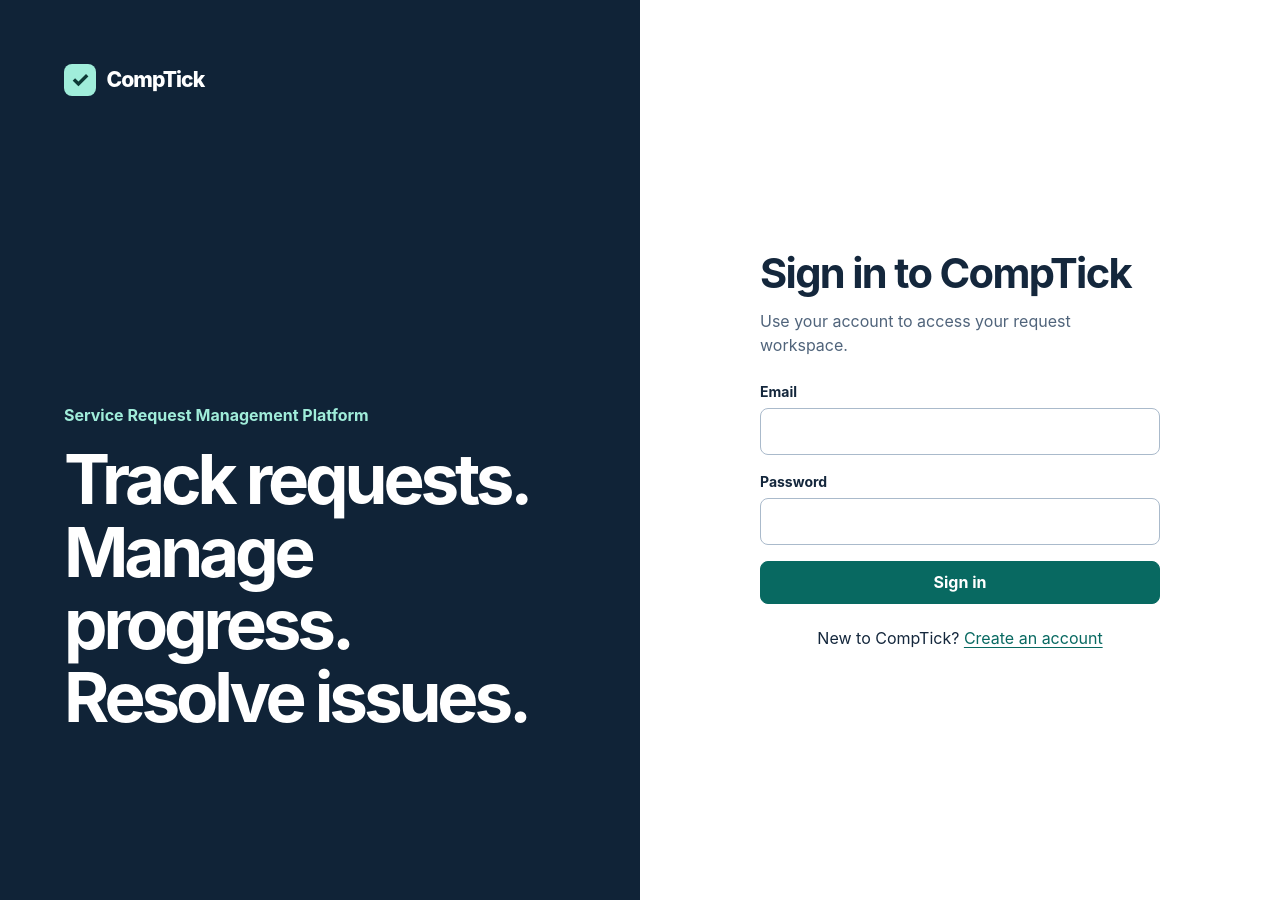
Test case: shows incorrect credentials on the login screen
The width and height of the screenshot is (1280, 900).
Type "member@example.com" into the field labelled "Email" at (960, 432), box [760,408,1160,455]
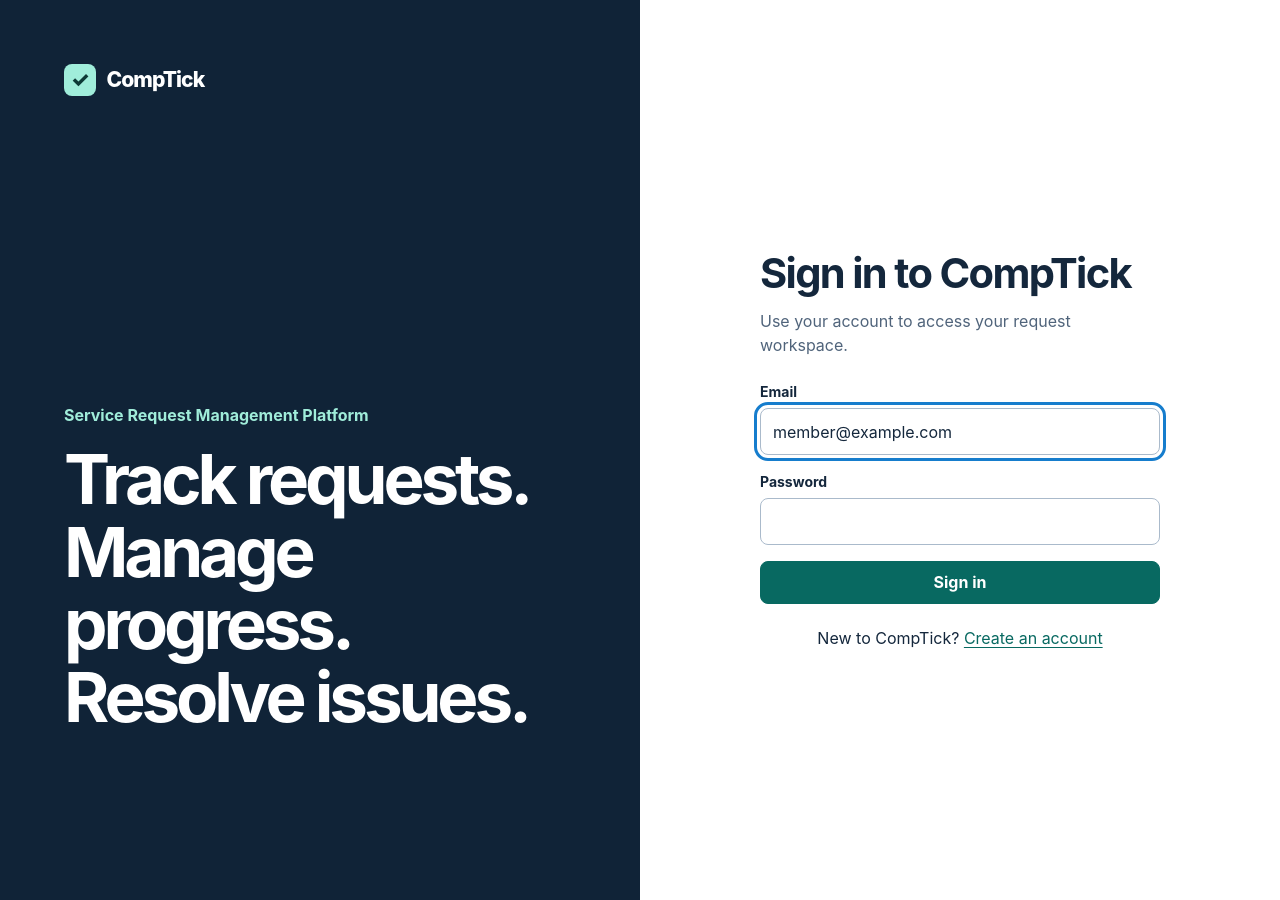
Type "testing-password" into the password field labelled "Password" at (960, 522), box [760,498,1160,545]
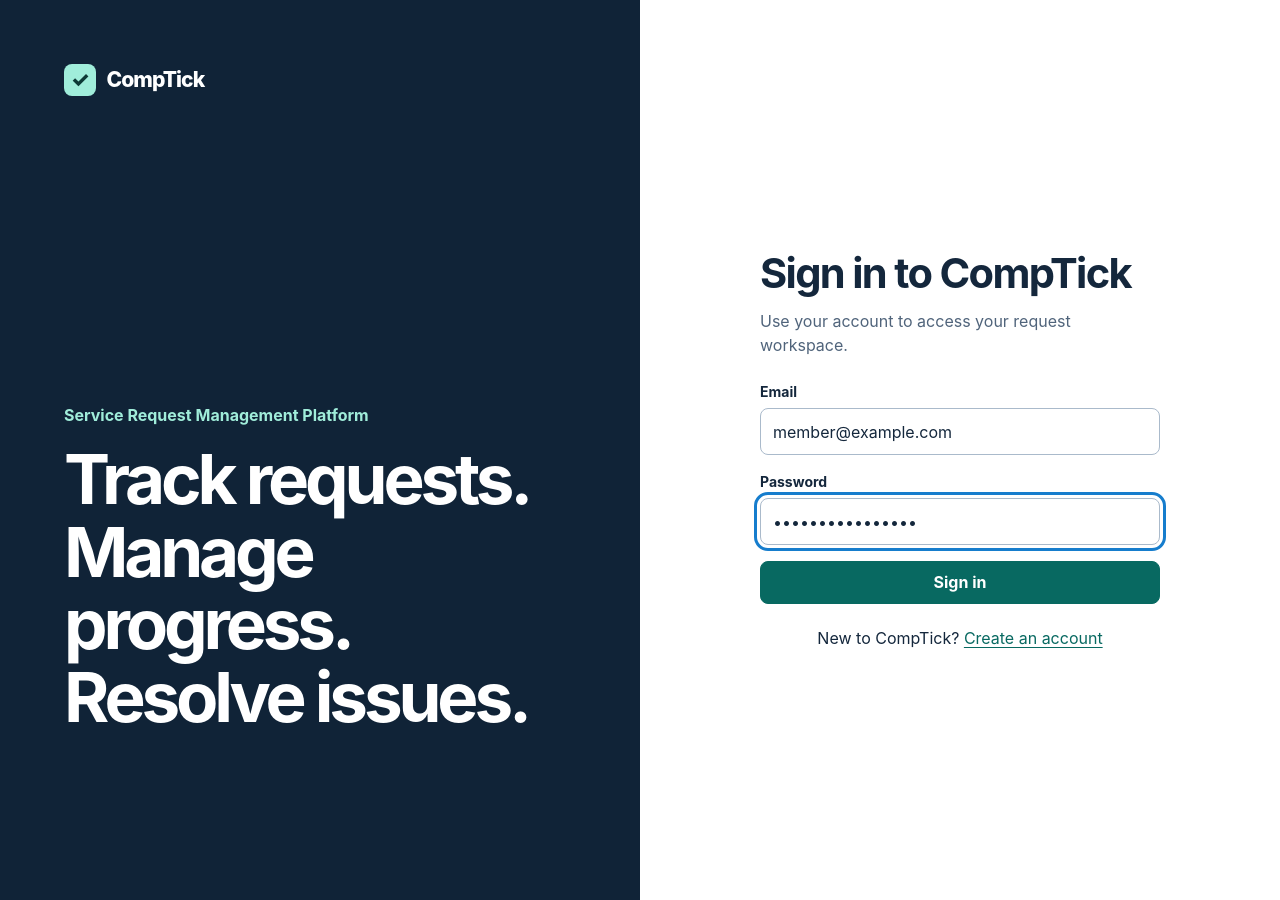
Click the button "Sign in" at (960, 582), box [760,561,1160,604]
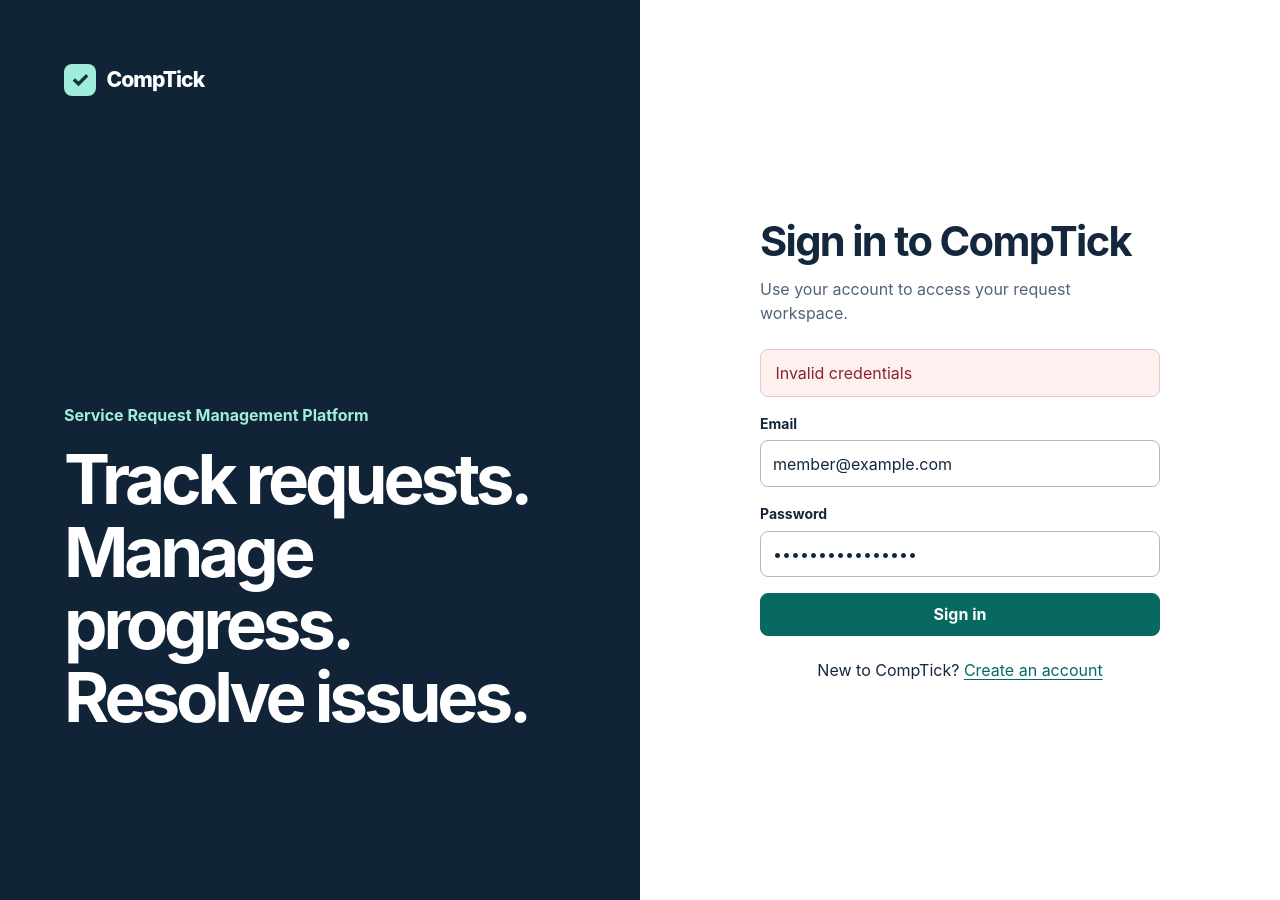
expect the message reads "Invalid credentials": met, box [775,363,912,383]
